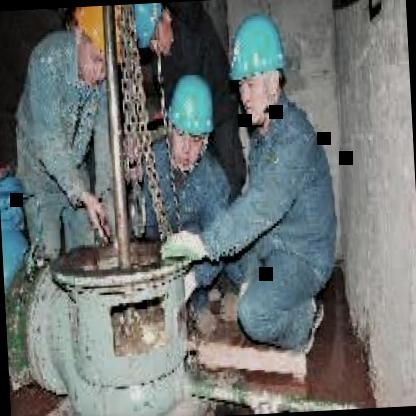helmet: (226, 11, 295, 132), (164, 73, 221, 171), (71, 7, 117, 90), (130, 4, 177, 54)
